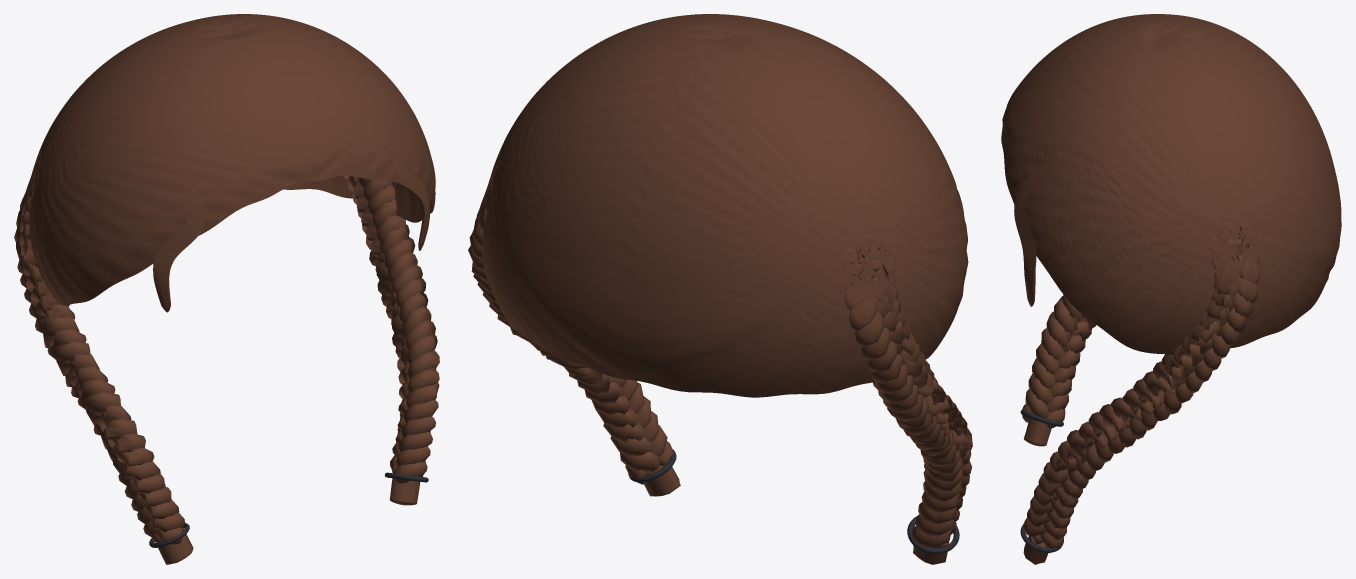
The model's file is Feminine-twin-braids-closed-hair.glb.
The picture shows the model from 3 angles, left to right: view 1: azimuth 30°, elevation 25°; view 2: azimuth 150°, elevation 25°; view 3: azimuth 270°, elevation 25°; orthographic projection. The views are drawn at different scales.
Parts seen in each view (by area): view 1: 226 hair / Hair / chestnut226.001; view 2: 226 hair / Hair / chestnut226.001, 226 hair / Hair / ties226.001; view 3: 226 hair / Hair / chestnut226.001, 226 hair / Hair / ties226.001.
Part boxes in pixels (x1,y1,x2,y2): 226 hair / Hair / chestnut226.001: (14, 14, 439, 564); 226 hair / Hair / chestnut226.001: (468, 14, 972, 564); 226 hair / Hair / ties226.001: (628, 449, 959, 554); 226 hair / Hair / chestnut226.001: (1001, 14, 1341, 564); 226 hair / Hair / ties226.001: (1020, 410, 1063, 552).
Bounding box in the file's own units: 1.01 × 1.18 × 0.7811.
